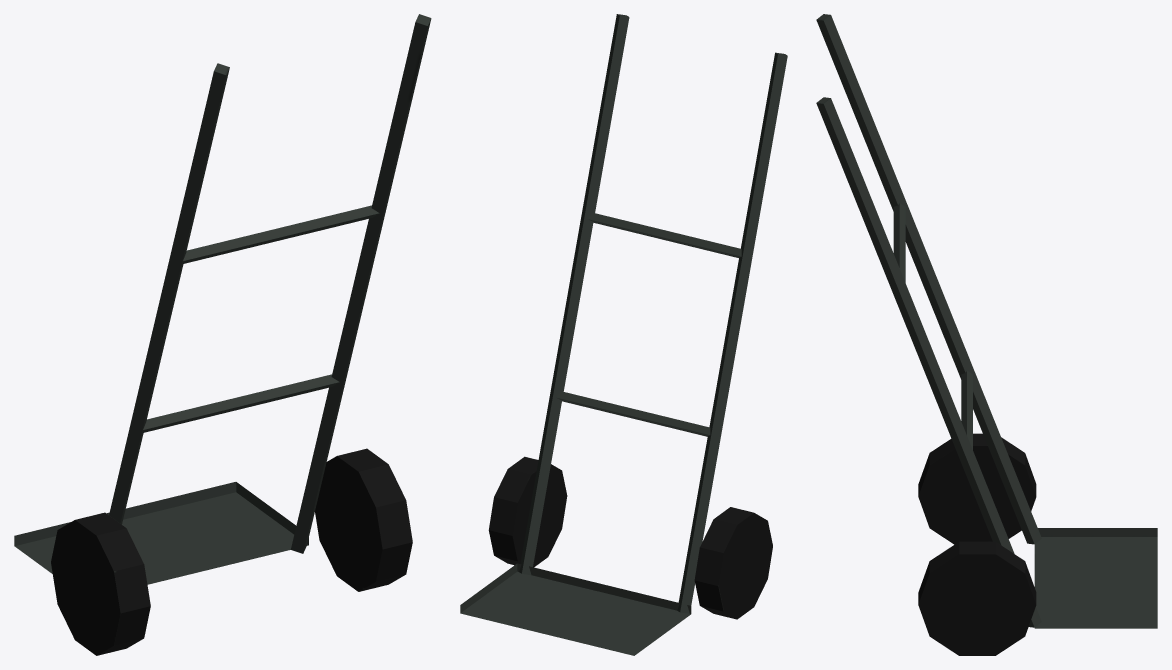
File: rudl_43f0baaf.glb
The picture shows the model from 3 angles, left to right: view 1: azimuth 30°, elevation 25°; view 2: azimuth 150°, elevation 25°; view 3: azimuth 270°, elevation 25°; orthographic projection. The views are drawn at different scales.
Parts seen in each view (by area): view 1: dum; view 2: dum; view 3: dum.
Boxes of the visible parts, <box> form: dum: <box>14,14,431,655</box>; dum: <box>460,14,787,655</box>; dum: <box>816,14,1157,655</box>.
Size of the model in its own units: 0.5786 by 1.21 by 0.6919.
Materials: 1 (1 with a texture image).
